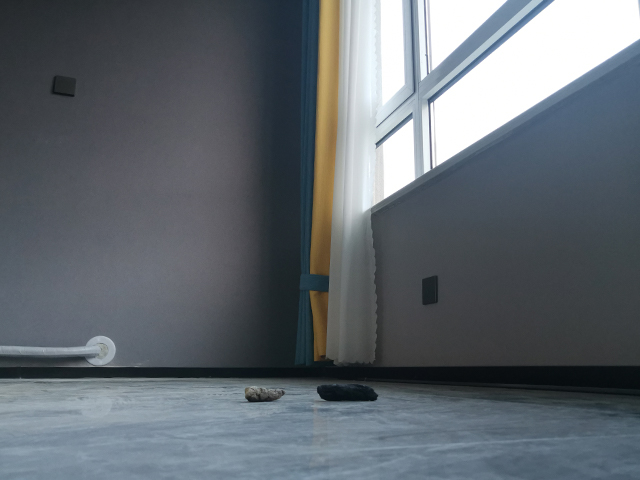curtain: (288, 1, 380, 371)
feces: (315, 381, 381, 403), (243, 383, 285, 405)
